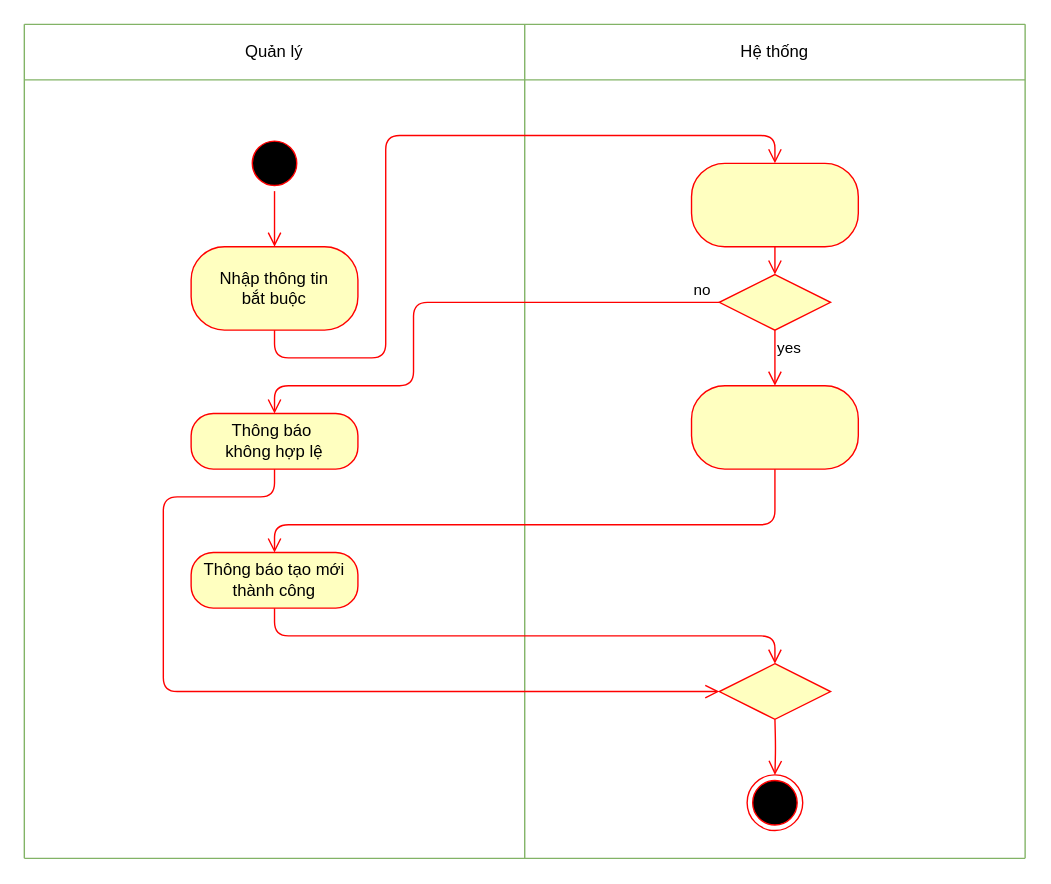
The diagram is 1051 pixels wide and 884 high, and some of its shapes have lost their labels. Here are the shapes that lost their labels. From the top down, the centre of each, then its label:
At point 774,204: "Kiểm tra thông tin hợp lệ".
At point 774,426: "Tạo tài khoản admin mới".
